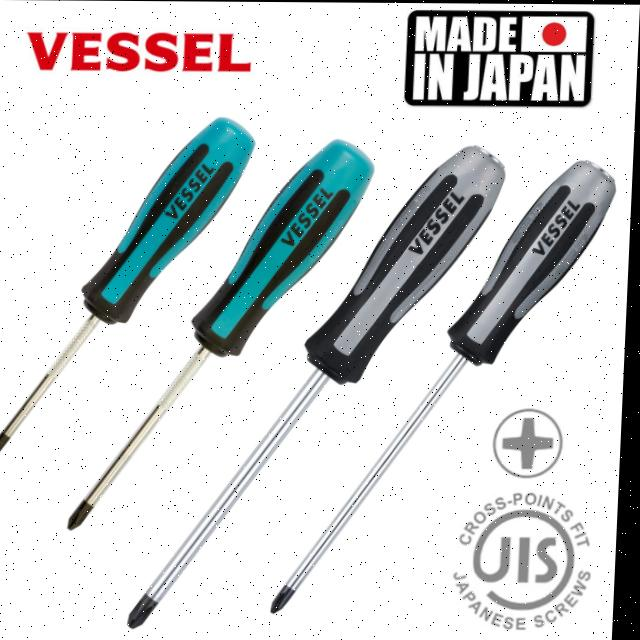Screwdriver: (134, 145, 506, 627), (279, 160, 617, 609), (73, 139, 376, 529), (0, 118, 256, 456)
